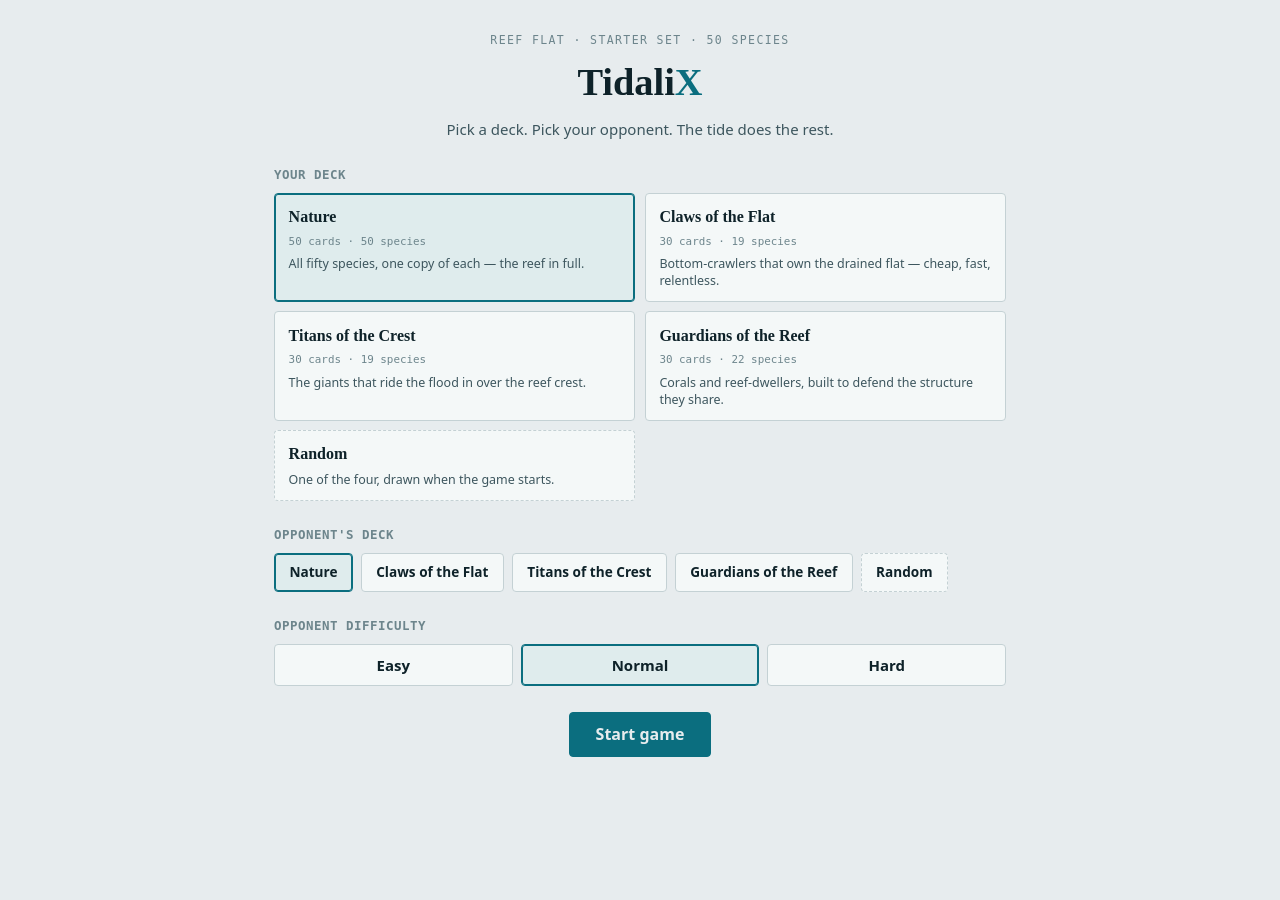
Scenario: client › separates what was earned this turn from what next turn will pay
(page scrolled)
Click the button with class "setup__start" at (640, 734), box [569,712,711,757]
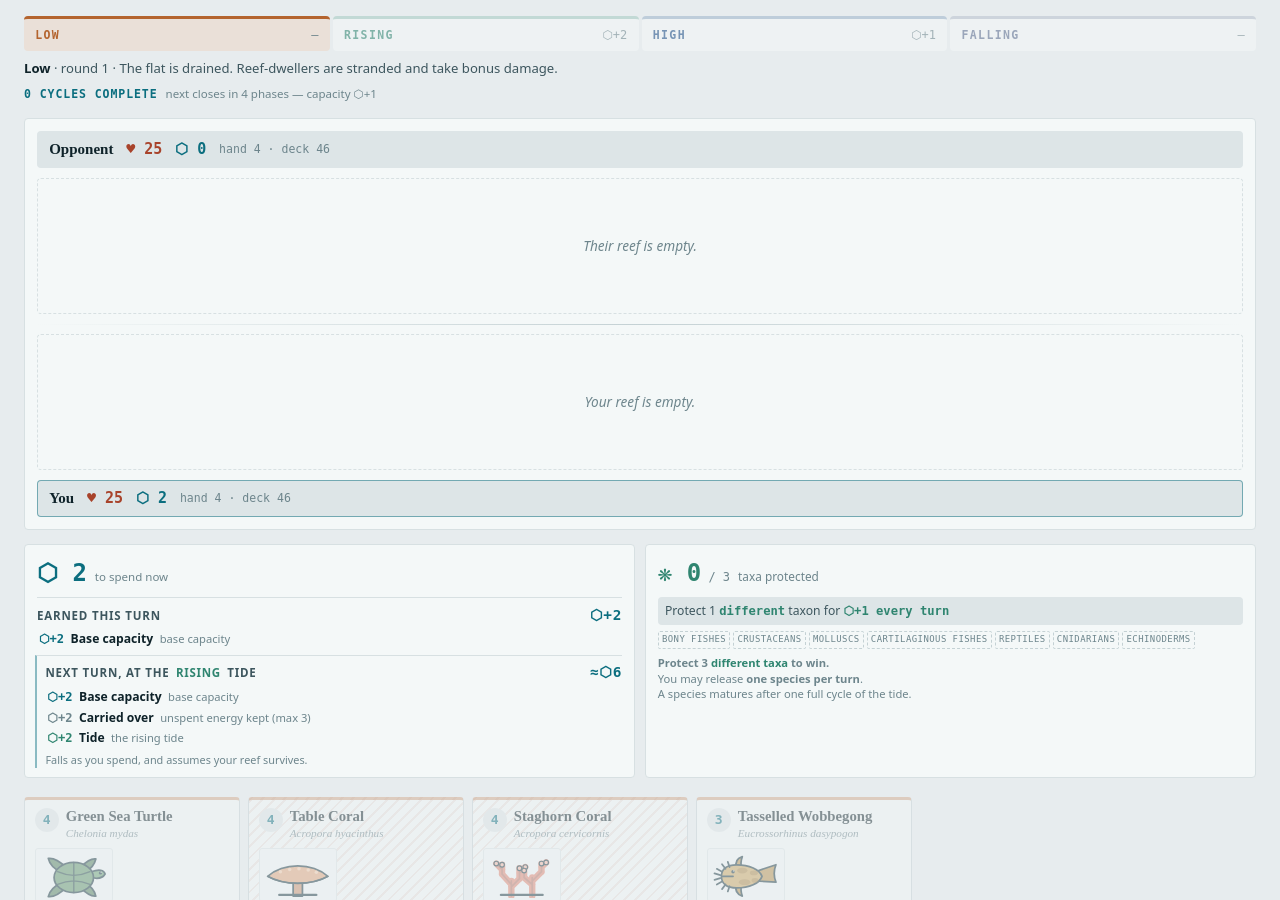
Check: the element with class "energy__block--past" shows "Earned this turn", box [37,608,161,623]
Check: the element with class "energy__block--next" shows "Next turn", box [45,665,170,680]
Check: the 1st list item with class "energy__line" is shown, box [39,630,230,647]
